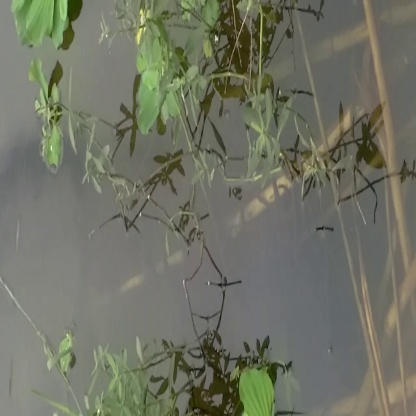leaf: (231, 364, 280, 416)
